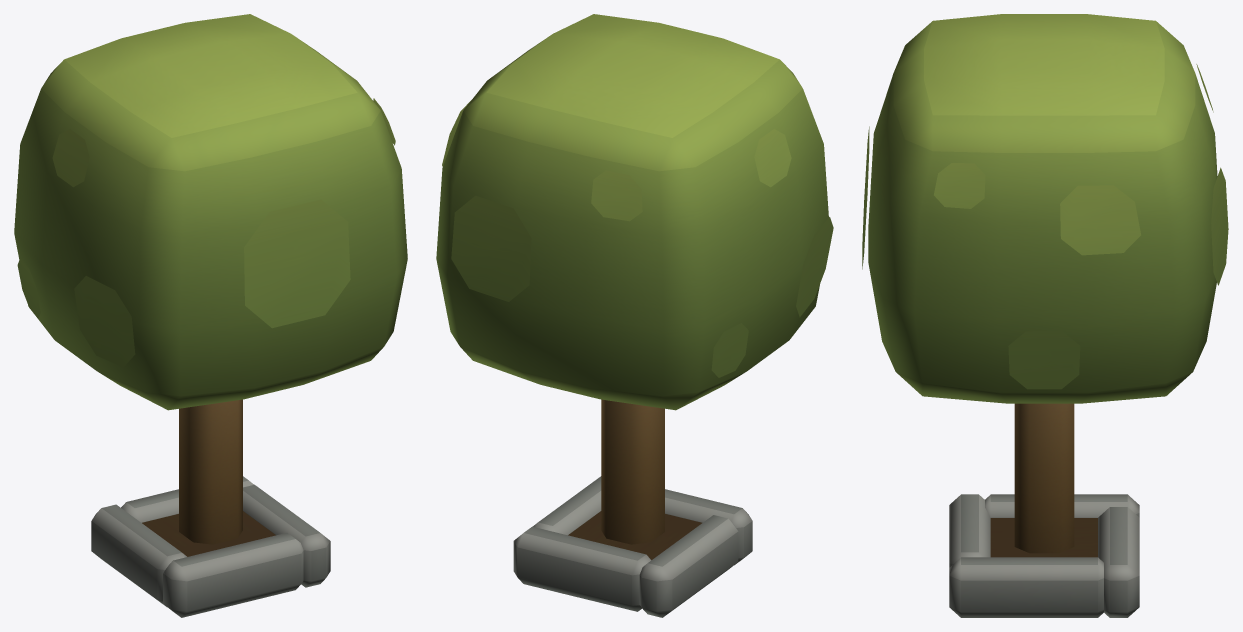
File: tree_2.fbx
The picture shows the model from 3 angles, left to right: view 1: azimuth 30°, elevation 25°; view 2: azimuth 150°, elevation 25°; view 3: azimuth 270°, elevation 25°; orthographic projection. The views are drawn at different scales.
Parts seen in each view (by area): view 1: tree_2; view 2: tree_2; view 3: tree_2.
Boxes of the visible parts, box(x1,y1,x2,y2) form: tree_2: box(14, 14, 407, 617); tree_2: box(436, 14, 833, 617); tree_2: box(862, 14, 1228, 617).
Size of the model in its own units: 308 by 488 by 308.
